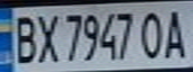4: (100, 8, 121, 61)
7: (60, 9, 84, 63), (115, 8, 139, 61)
9: (81, 9, 100, 62)
A: (160, 6, 190, 60)
B: (9, 10, 39, 64)
O: (136, 7, 169, 60)
X: (33, 9, 60, 64)
